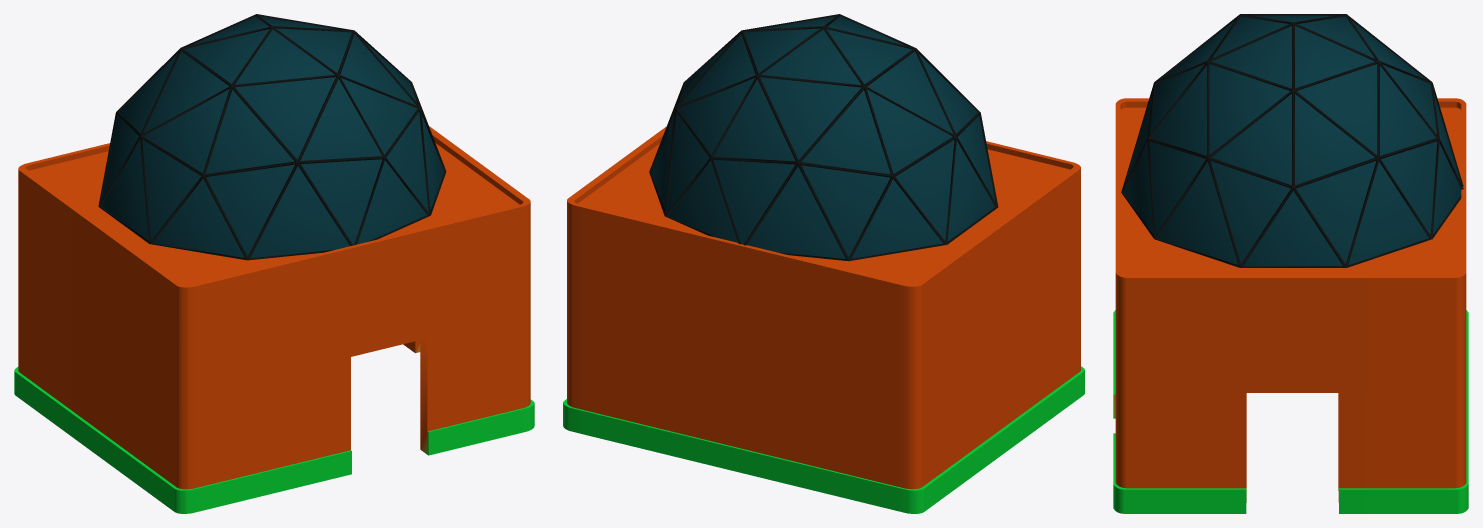
Rendered from Maison_Zone_2.fbx.
3 views of the same model, side by side, from view 1: azimuth 30°, elevation 25°; view 2: azimuth 150°, elevation 25°; view 3: azimuth 270°, elevation 25° (orthographic). The views are drawn at different scales.
Parts seen in each view (by area): view 1: Cube.040, Icosphere.001; view 2: Cube.040, Icosphere.001; view 3: Cube.040, Icosphere.001.
Part boxes in pixels (<box>): Cube.040: <box>14,126,534,513</box>; Icosphere.001: <box>98,14,446,260</box>; Cube.040: <box>563,126,1084,513</box>; Icosphere.001: <box>649,14,998,261</box>; Cube.040: <box>1113,98,1468,513</box>; Icosphere.001: <box>1121,14,1463,267</box>.
Size of the model in its own units: 762 by 778 by 626.
